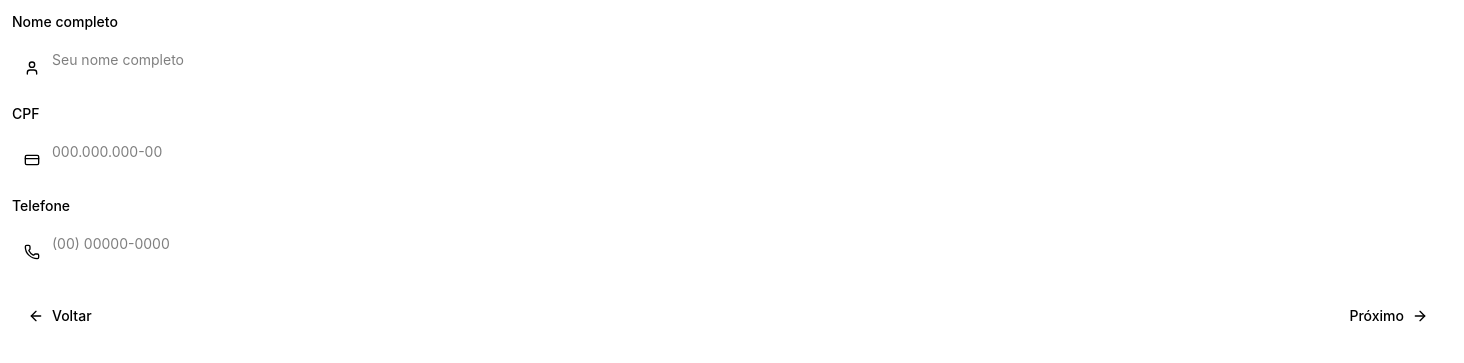
Test: StepPersonalData › CPF async status icons › shows error when CPF is already registered
This screenshot has width=1464, height=363.
Type "52998224725" into the field labelled "CPF". click: (732, 152)
box: [12,132,1452,172]
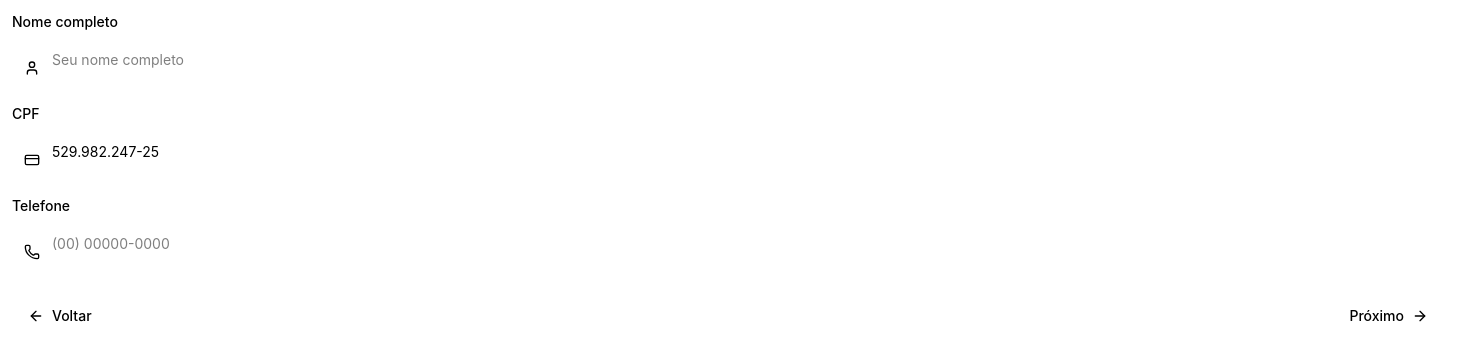
Press Tab
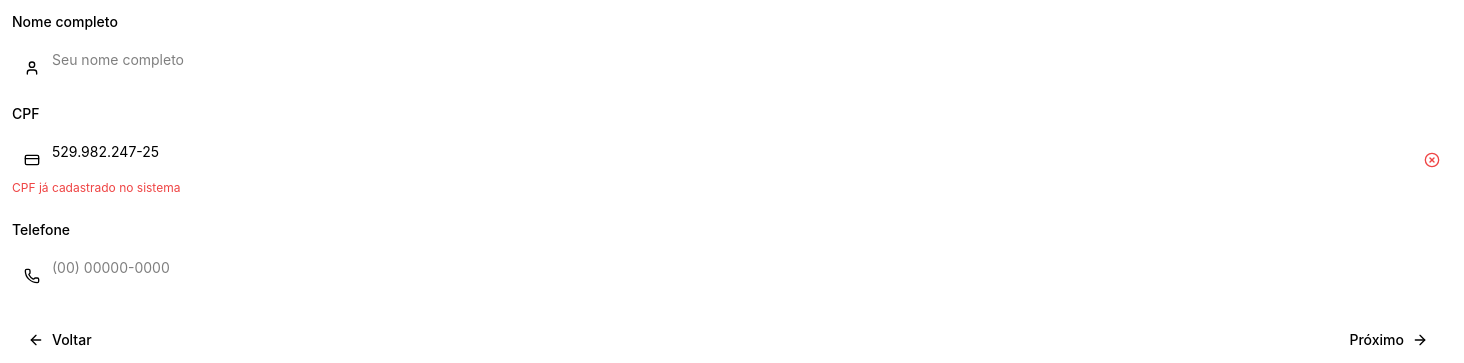
expect the text "CPF já cadastrado no sistema" is shown: met, box [12,180,180,195]
